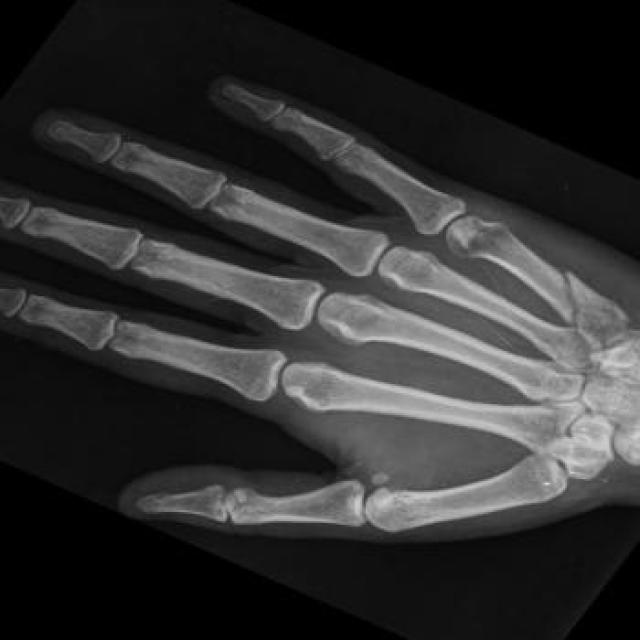Fracture: (554, 267, 588, 327)
